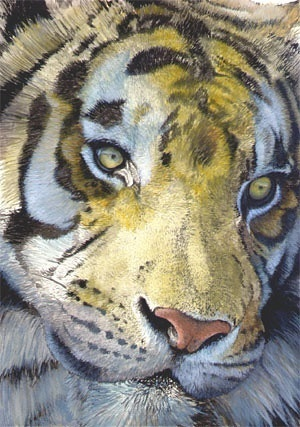tigre: (1, 2, 300, 426)
